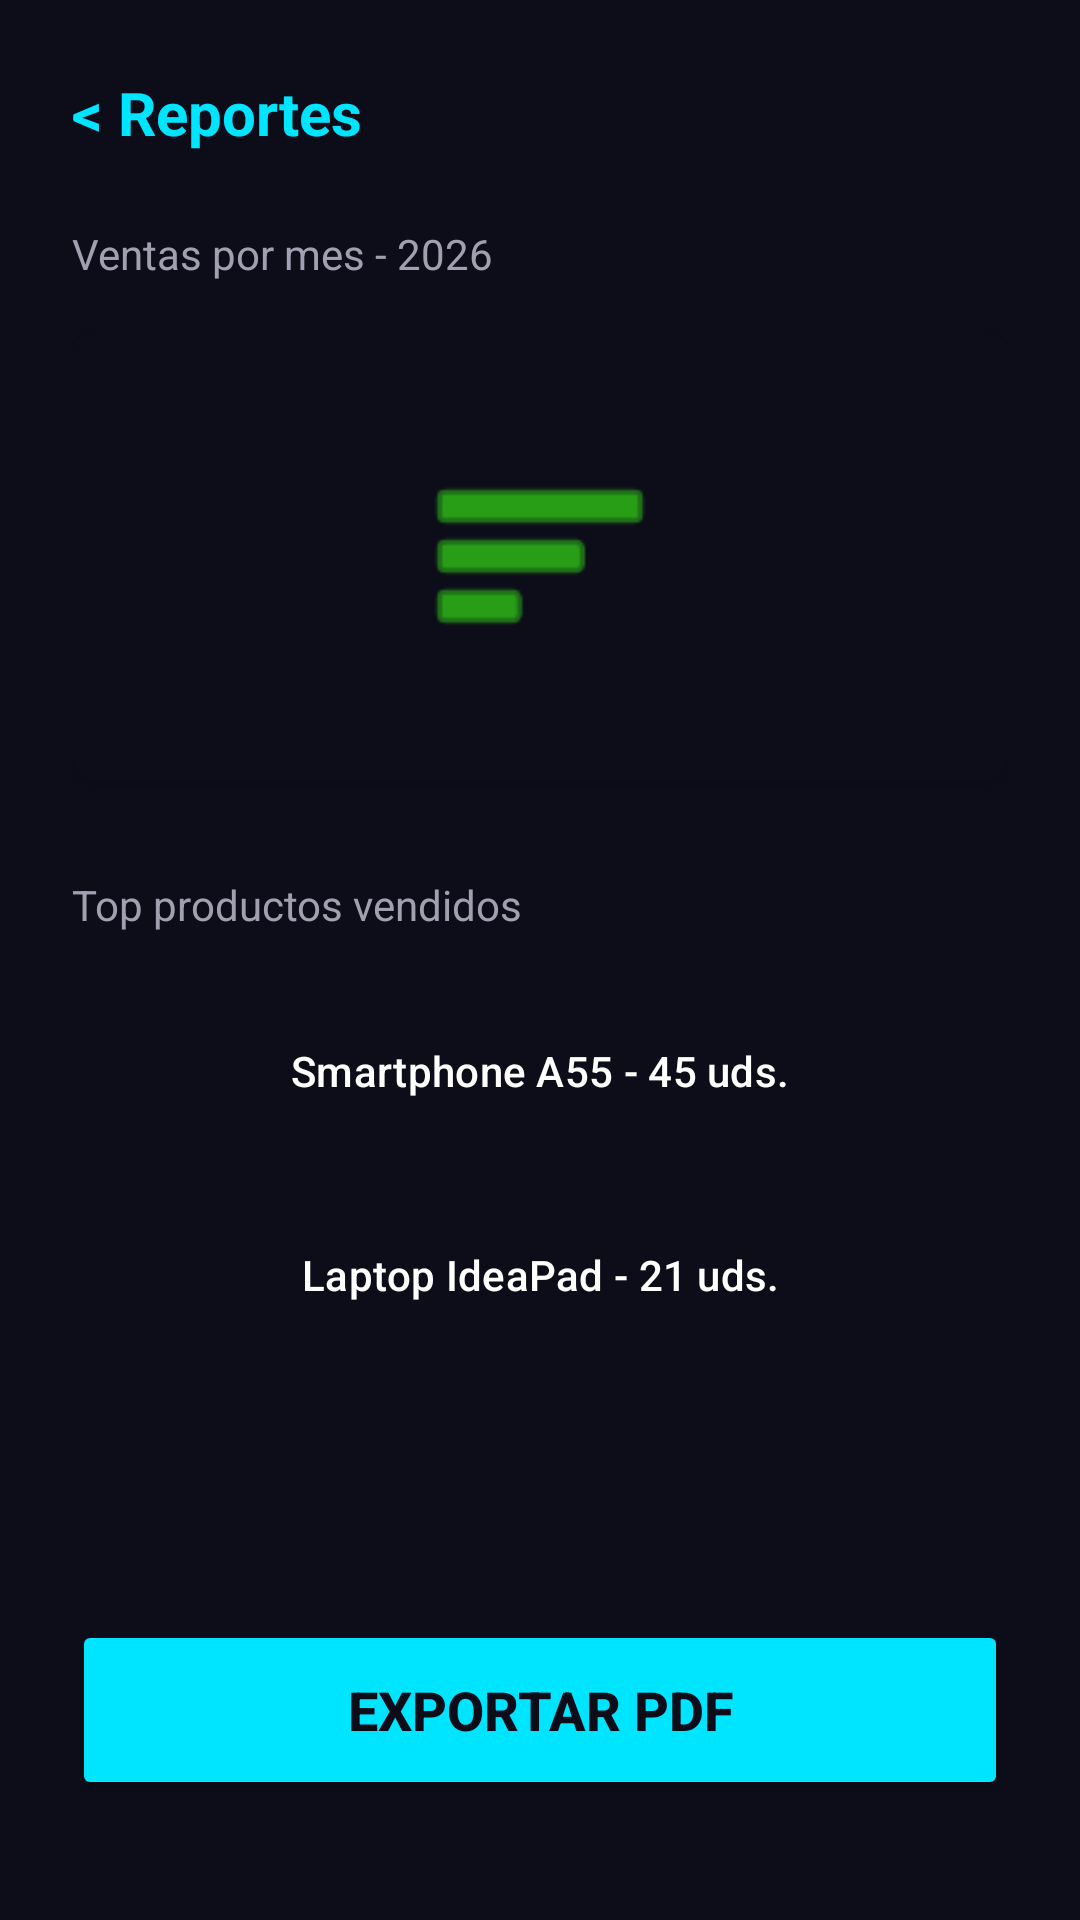

Where icons sit on this 1080 x 1920 app screen, as [x1=x1, y1=y1, x2=x2, y2=y2]:
sort by size: [x1=436, y1=489, x2=644, y2=624]
